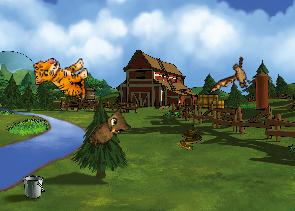eagle: (207, 49, 259, 107)
owl: (85, 104, 136, 158)
tiger: (32, 53, 91, 104)
